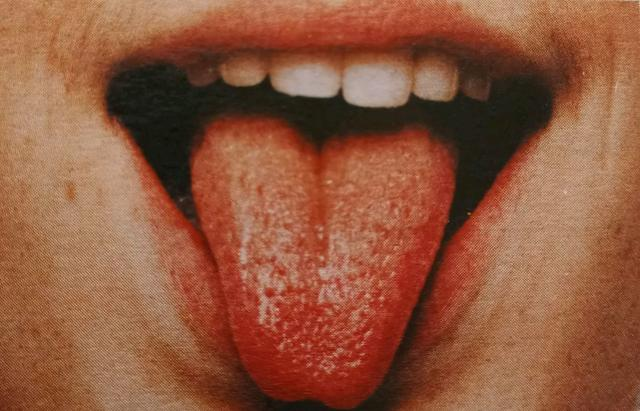hongshe: (192, 114, 454, 411)
shenquao: (257, 115, 384, 160)
shoushe: (192, 114, 454, 411)
